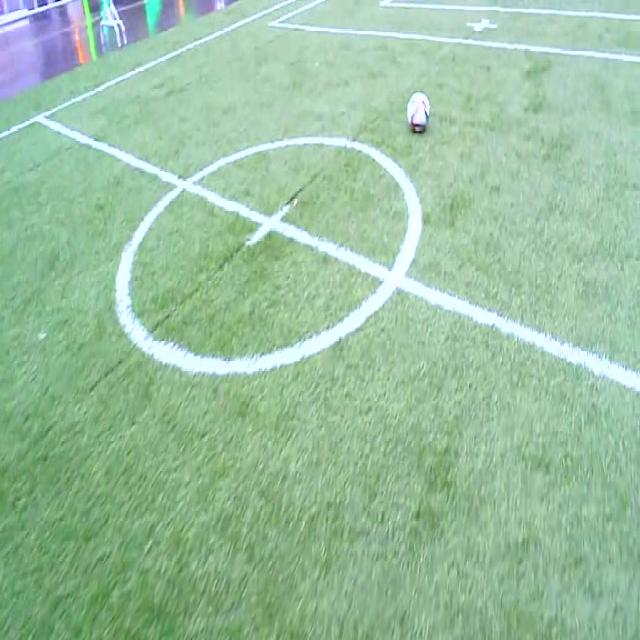ball: (407, 92, 430, 131)
